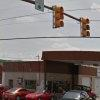Traffic light: (50, 3, 99, 44)
